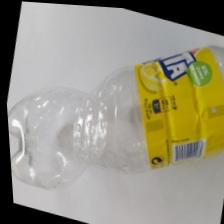plastic: (7, 27, 223, 223)
